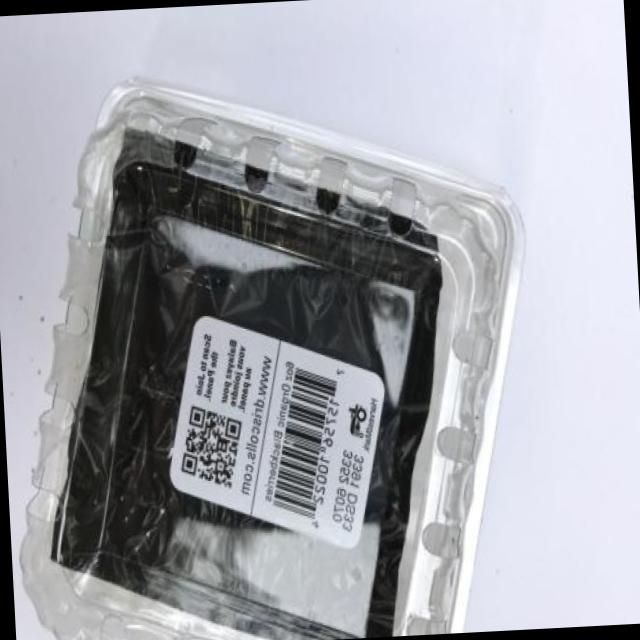Clamshell: (0, 43, 553, 640)
Label: (152, 300, 412, 560)
